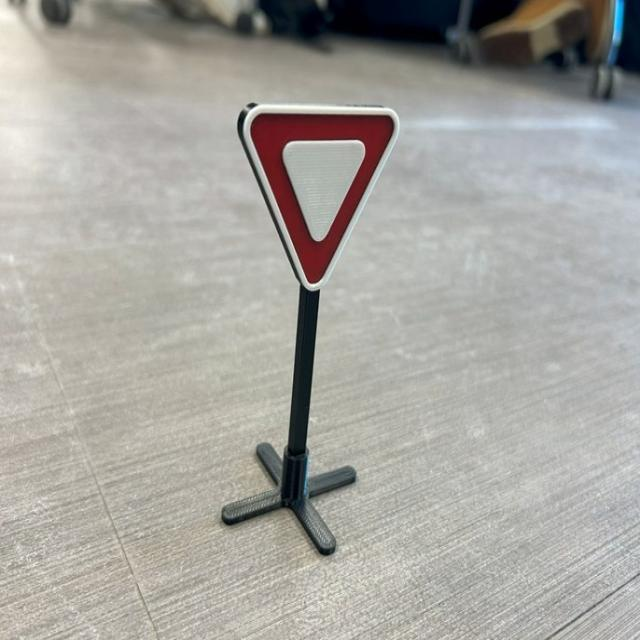sign_yield: (229, 90, 416, 302)
